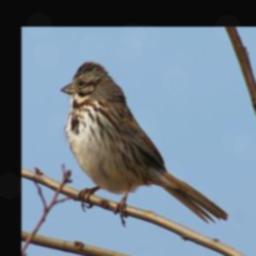Sparrow: (59, 59, 230, 226)
